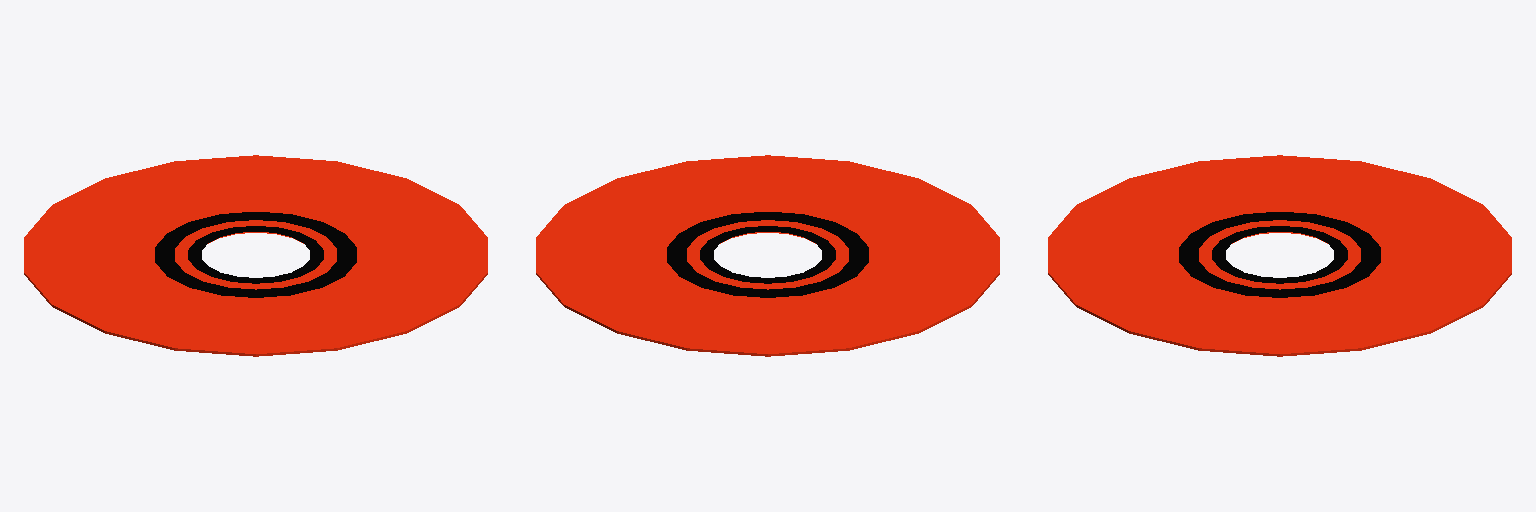
Rendered from CDs.obj.
The picture shows the model from 3 angles: view 1: azimuth 30°, elevation 25°; view 2: azimuth 150°, elevation 25°; view 3: azimuth 270°, elevation 25°; orthographic projection.
Visible parts, largest first — view 1: Cylinder004; view 2: Cylinder004; view 3: Cylinder004.
Boxes of the visible parts, x1=… form: Cylinder004: x1=24, y1=155, x2=487, y2=356; Cylinder004: x1=536, y1=155, x2=999, y2=356; Cylinder004: x1=1048, y1=155, x2=1511, y2=356.
Bounding box in the file's own units: 816 × 4.66 × 804.